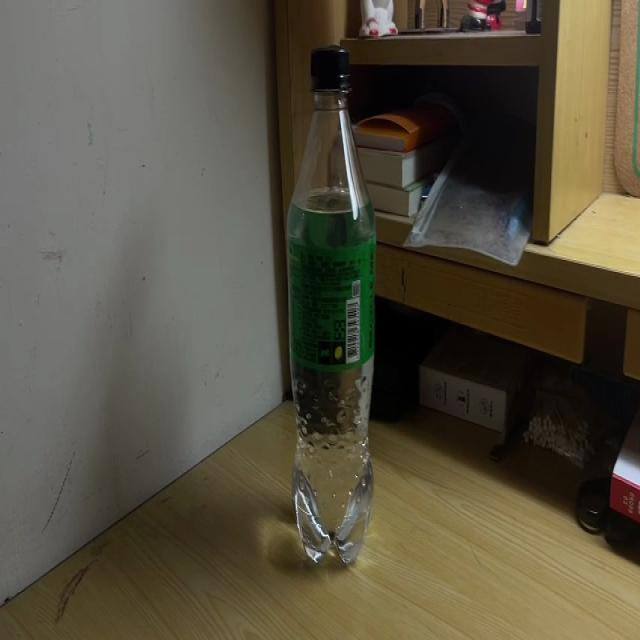Sprite: (285, 43, 376, 572)
